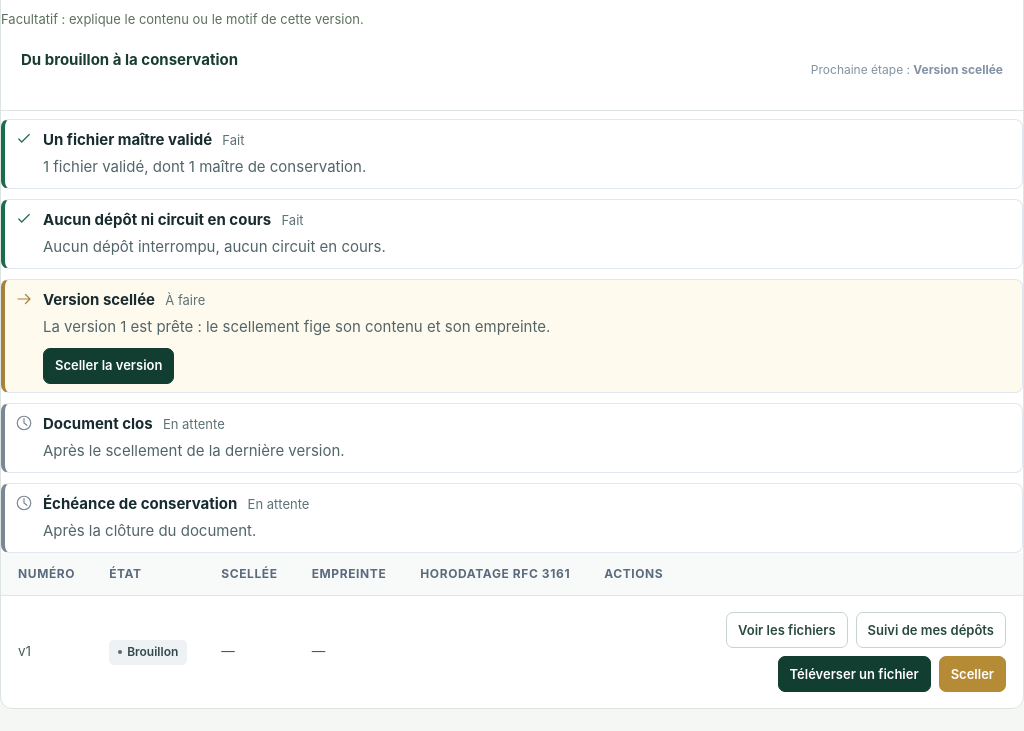
Test: quand la version a déjà son maître validé, « Sceller » est actif et le dépôt propose « Pièce jointe »
This screenshot has width=1024, height=731.
(page scrolled)
Check: the button "Sceller" is enabled, box 939,656 -> 1006,692
Click the button "Téléverser un fichier". click: (854, 674)
box: 778,656 -> 931,692
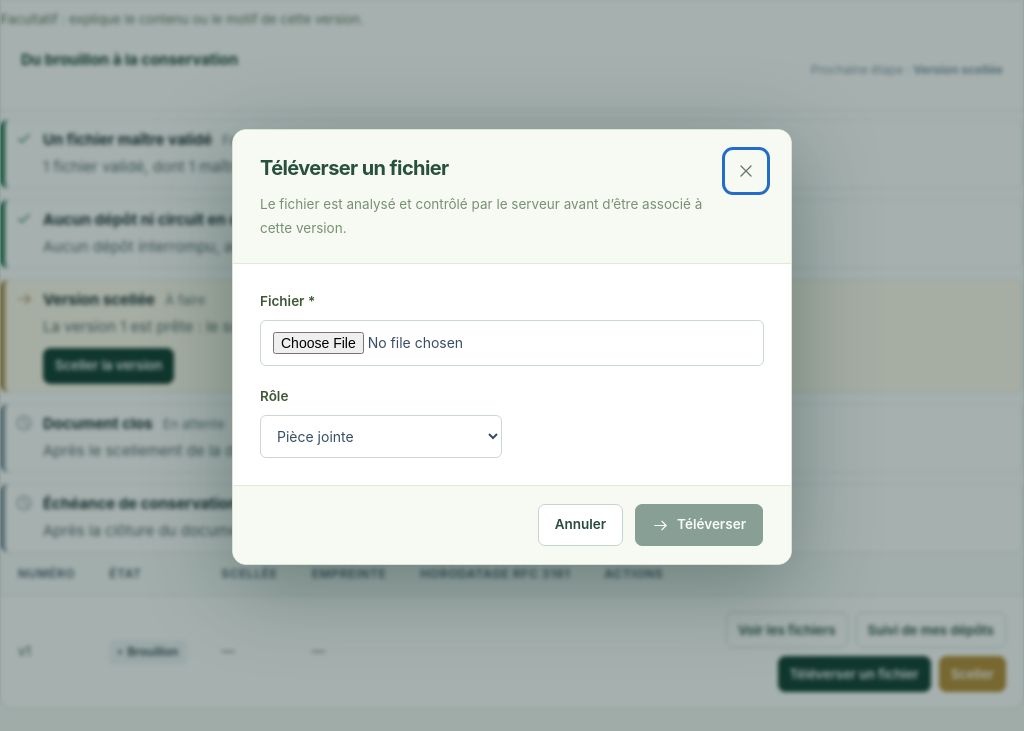
Check: the dropdown labelled "Rôle" shows "Pièce jointe", box 260,415 -> 502,458
